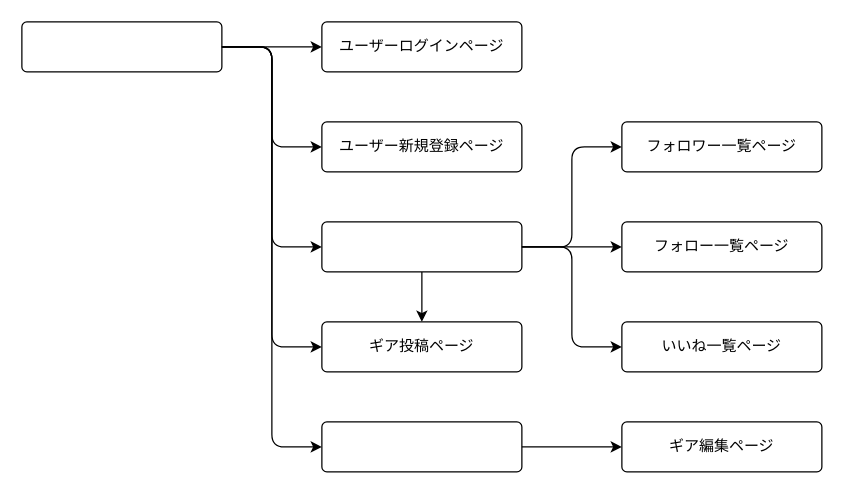
Image size: 844x494. Some labels were removed from this diagram. Here are the shapes that lost their labels. From the top down, the box of each, then its label:
(21, 21, 222, 72): ギア一覧ページ
(321, 221, 522, 272): ユーザーマイページ
(321, 421, 522, 472): ギア詳細ページ
